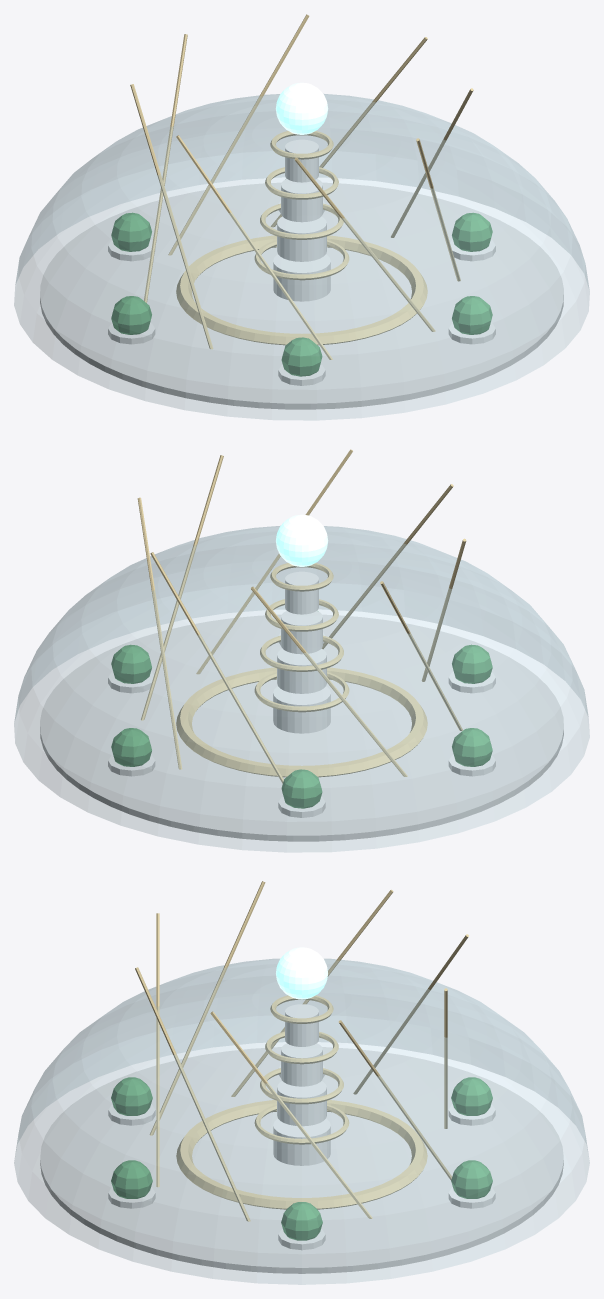
Rendered from reef-atrium.glb.
3 renders of one model, top to bottom at view 1: azimuth 30°, elevation 25°; view 2: azimuth 150°, elevation 25°; view 3: azimuth 270°, elevation 25°, orthographic.
Parts seen in each view (by area): view 1: Sphere.021, Cylinder.025, Torus.263, Cylinder.027, Sphere.022, Cylinder.026; view 2: Sphere.021, Cylinder.025, Torus.263, Cylinder.027, Sphere.022, Cylinder.026; view 3: Sphere.021, Cylinder.025, Torus.263, Cylinder.027, Sphere.022, Cylinder.026.
Part boxes in pixels (x1,y1,x2,y2): Sphere.021: (14, 94, 589, 420); Cylinder.025: (40, 182, 563, 409); Torus.263: (130, 14, 473, 359); Cylinder.027: (108, 139, 495, 385); Sphere.022: (111, 178, 492, 376); Cylinder.026: (275, 82, 328, 134); Sphere.021: (14, 526, 589, 852); Cylinder.025: (40, 614, 563, 841); Torus.263: (137, 449, 466, 783); Cylinder.027: (108, 571, 495, 817); Sphere.022: (111, 611, 492, 808); Cylinder.026: (276, 514, 328, 566); Sphere.021: (14, 958, 589, 1284); Cylinder.025: (40, 1047, 563, 1273); Torus.263: (135, 881, 468, 1221); Cylinder.027: (108, 1004, 495, 1250); Sphere.022: (111, 1077, 492, 1240); Cylinder.026: (276, 947, 327, 999).
Bounding box in the file's own units: 44 × 19.91 × 44.
